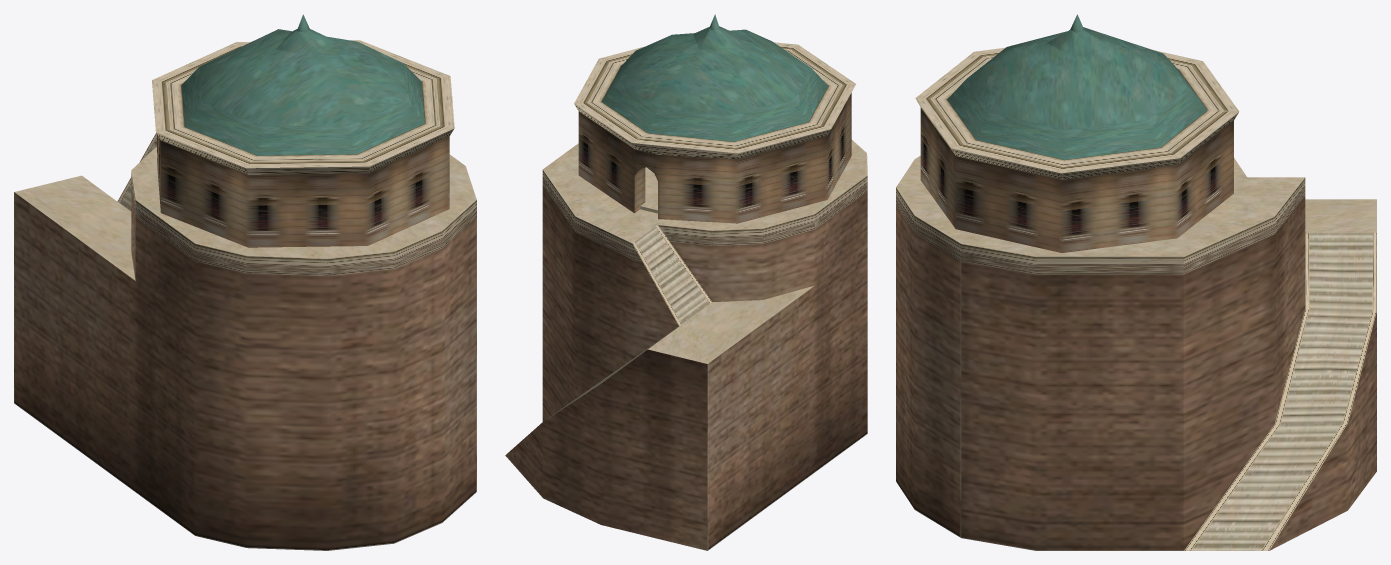
File: ply_nboo_house_sm_s01_fp1_r0_mesh_l3.fbx
3 renders of one model, left to right at view 1: azimuth 30°, elevation 25°; view 2: azimuth 150°, elevation 25°; view 3: azimuth 270°, elevation 25°, orthographic. The views are drawn at different scales.
Visible parts, largest first — view 1: mesh_node; view 2: mesh_node; view 3: mesh_node.
Boxes of the visible parts, x1,y1,x2,y2 form: mesh_node: [14, 14, 476, 550]; mesh_node: [505, 14, 867, 550]; mesh_node: [896, 14, 1376, 550].
Size of the model in its own units: 16.69 by 26.2 by 24.44.
